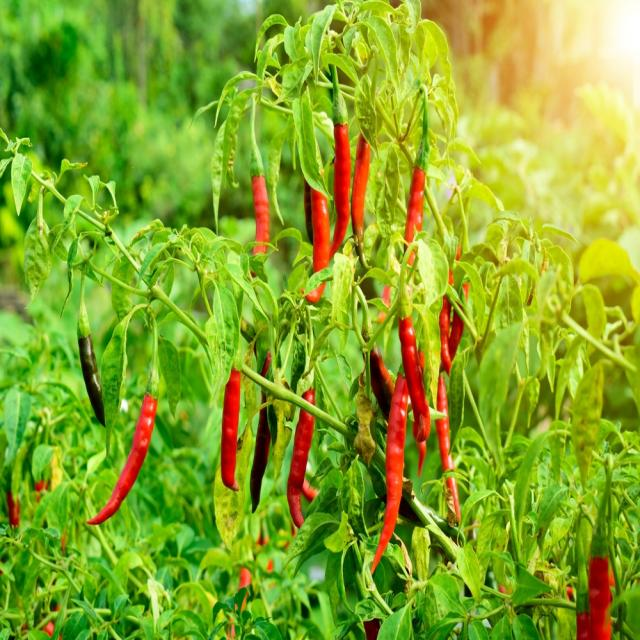Ripe: (88, 392, 158, 525), (371, 373, 409, 573), (399, 317, 431, 442), (288, 409, 315, 528), (329, 124, 351, 258), (351, 133, 370, 265), (221, 367, 241, 490), (589, 555, 611, 640), (435, 375, 454, 471), (405, 167, 426, 246), (311, 187, 330, 273), (251, 176, 269, 242), (439, 296, 452, 374), (449, 311, 464, 361), (412, 422, 426, 475), (576, 611, 590, 640)
Unripe: (79, 334, 105, 425)
